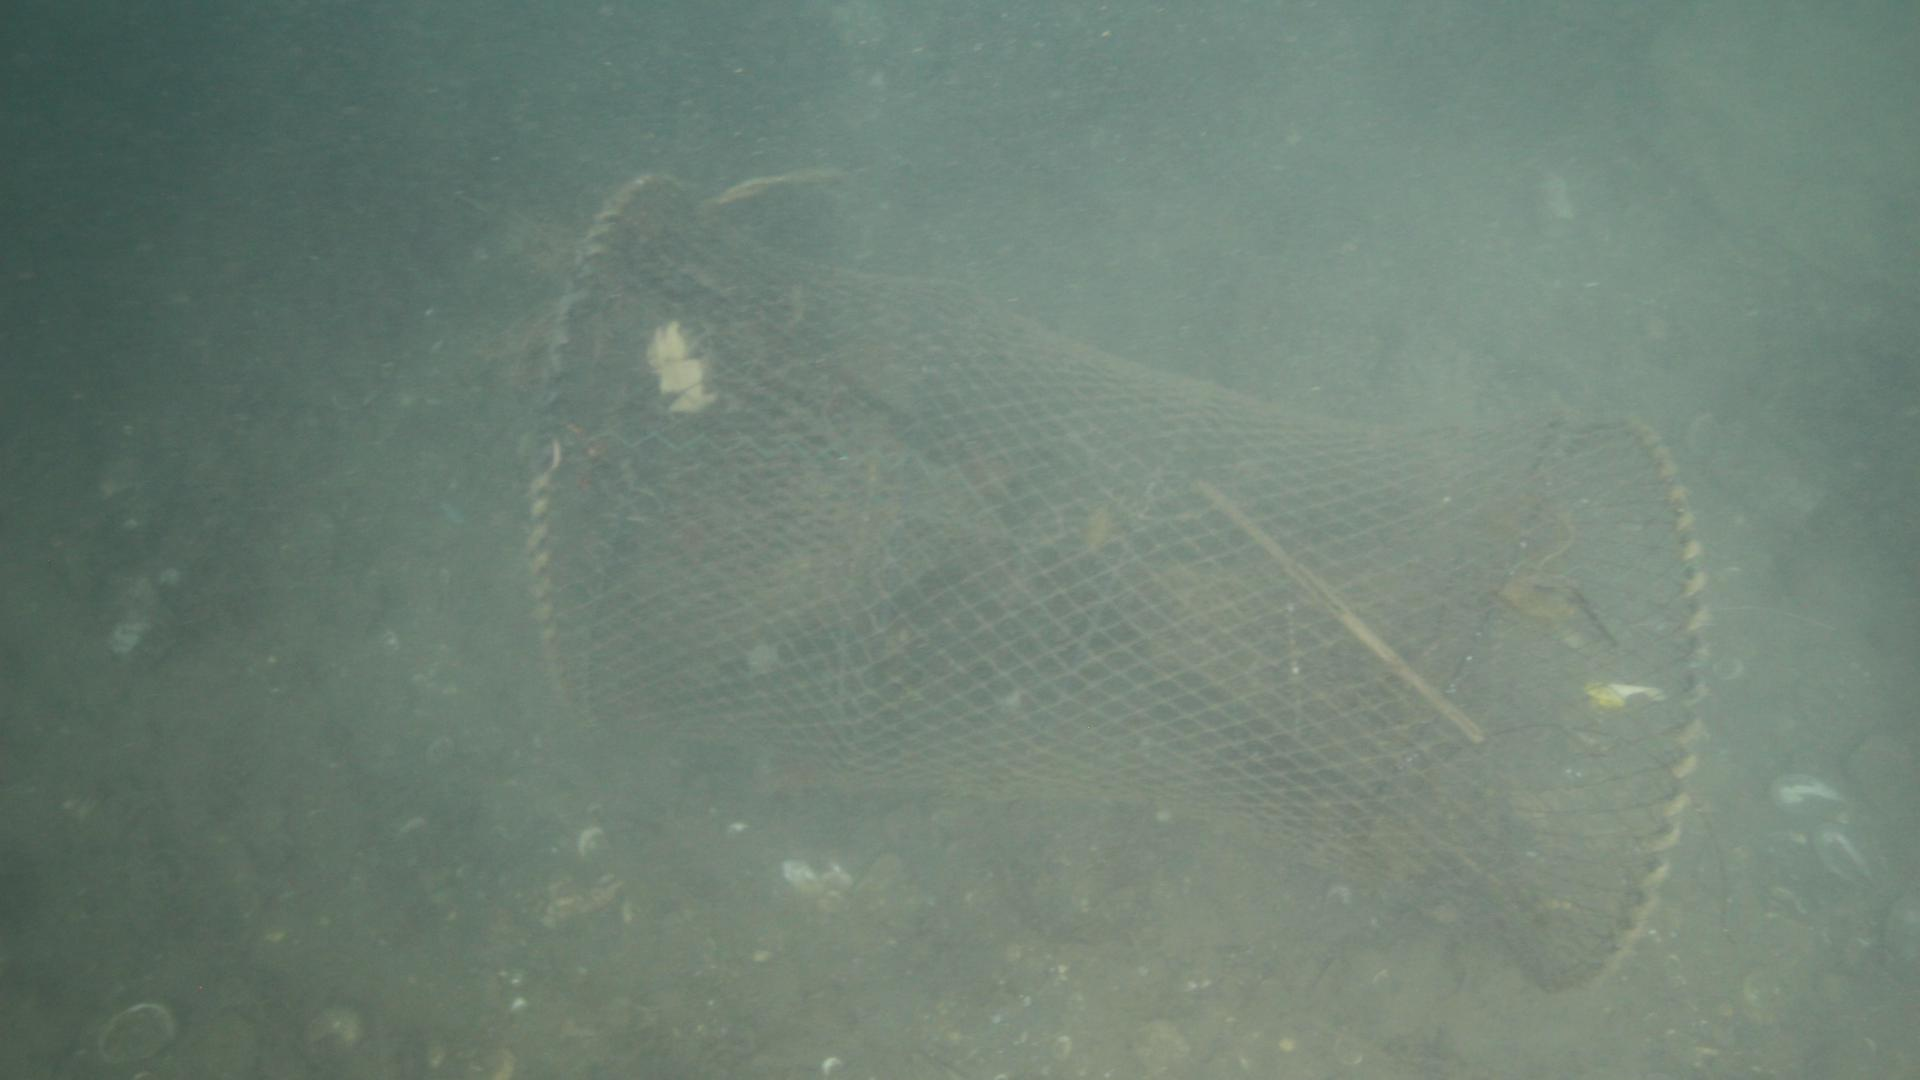spring fish trap: (525, 170, 1714, 1004)
